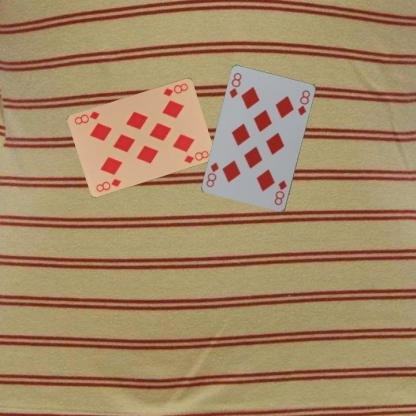8d: (160, 80, 190, 97), (227, 70, 243, 100), (94, 176, 122, 193), (272, 178, 288, 207)
